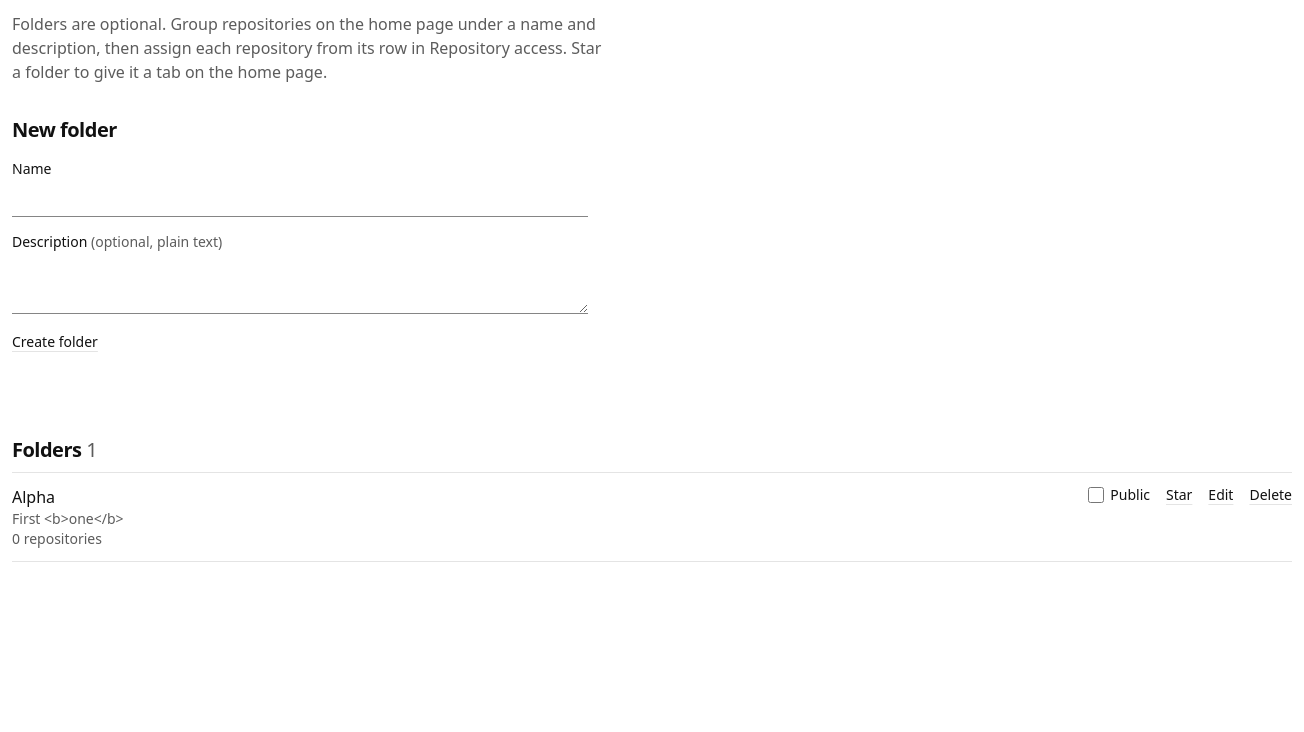
Scenario: FolderManager public access › turns a folder public and announces it
Click the switch named "Public access for Alpha" at [1096, 495], box [1088,487,1104,503]
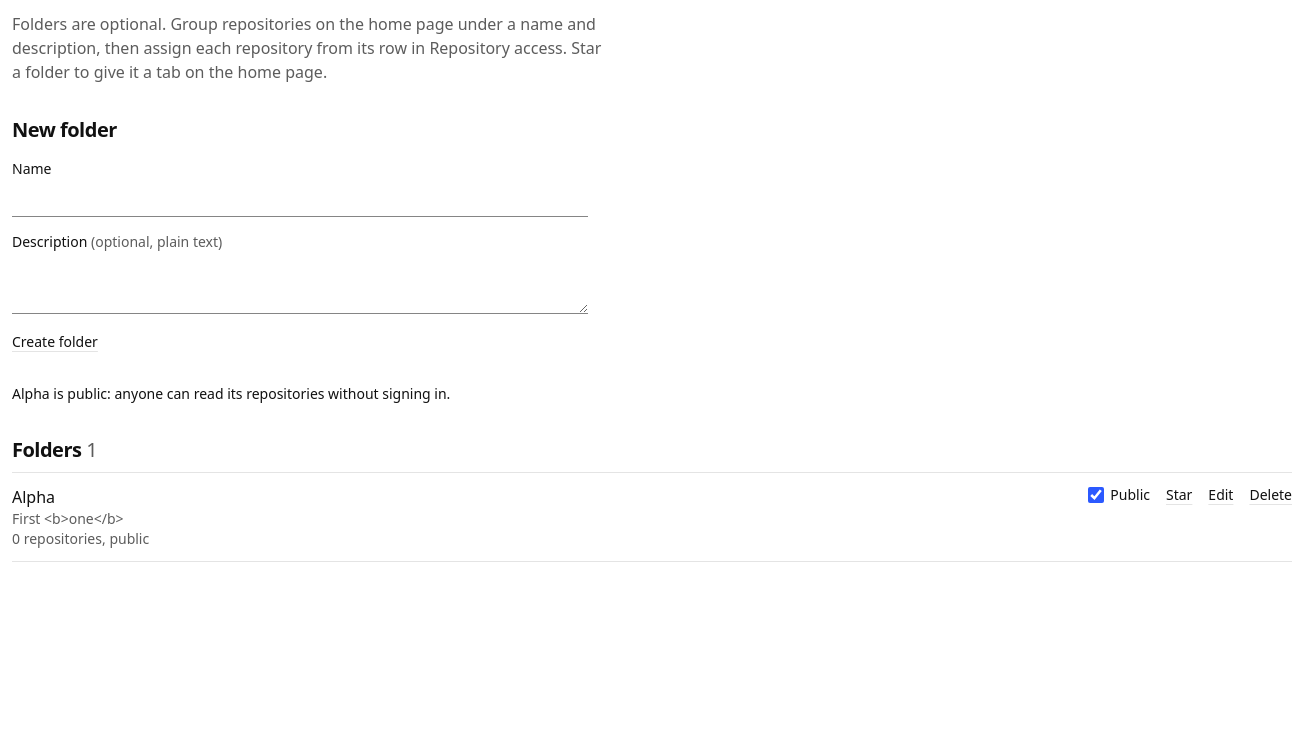
expect the switch named "Public access for Alpha" is checked: met, box [1088,487,1104,503]
expect the text "Alpha is public" is shown: met, box [12,384,450,403]
